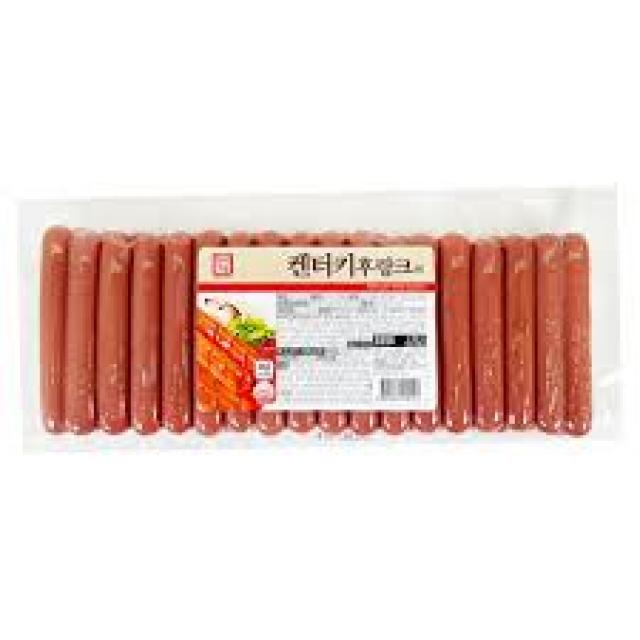sausage: (432, 194, 606, 446), (20, 204, 190, 446)
